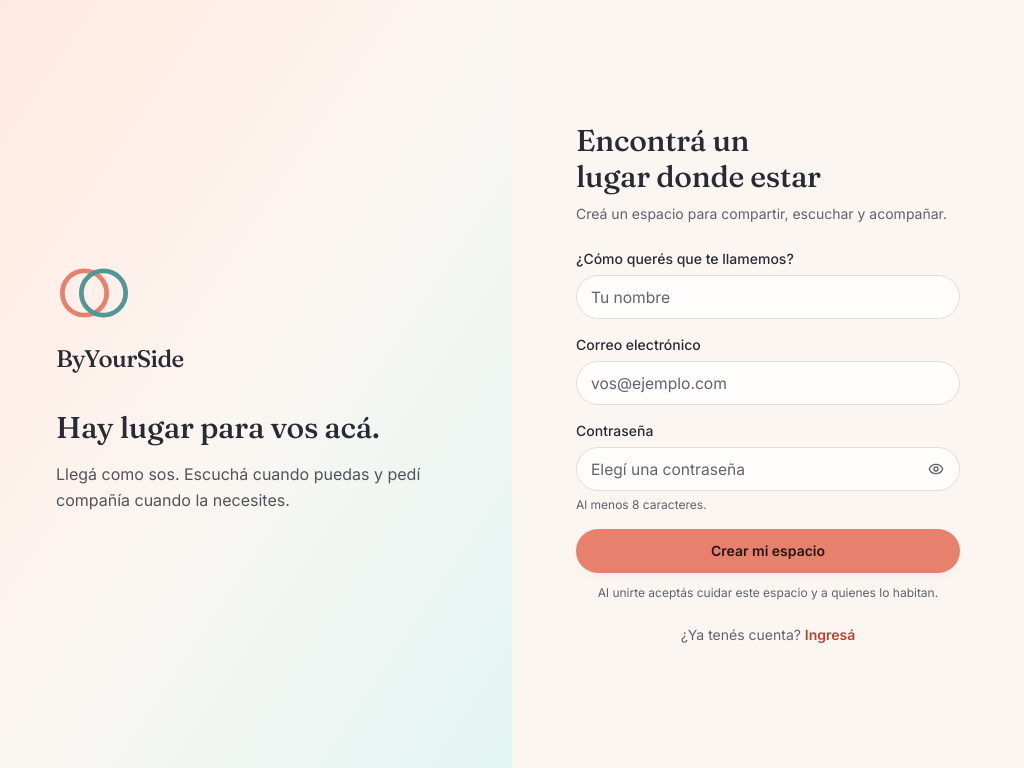
Test: RegisterPage › shows inline validation and does not submit
The image size is (1024, 768).
Type "no-es-correo" into the field labelled "Correo electrónico". click: (768, 383)
box: 576,361 -> 960,405
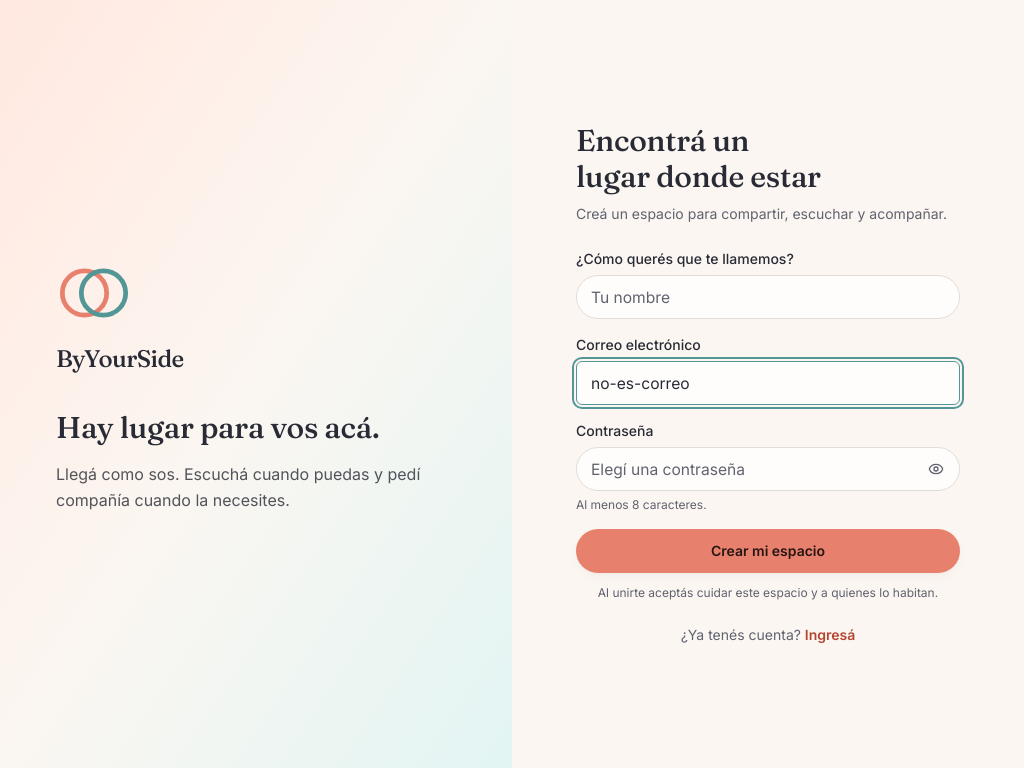
Type "corta" into the password field labelled "Contraseña". click: (768, 469)
box: 576,447 -> 960,491
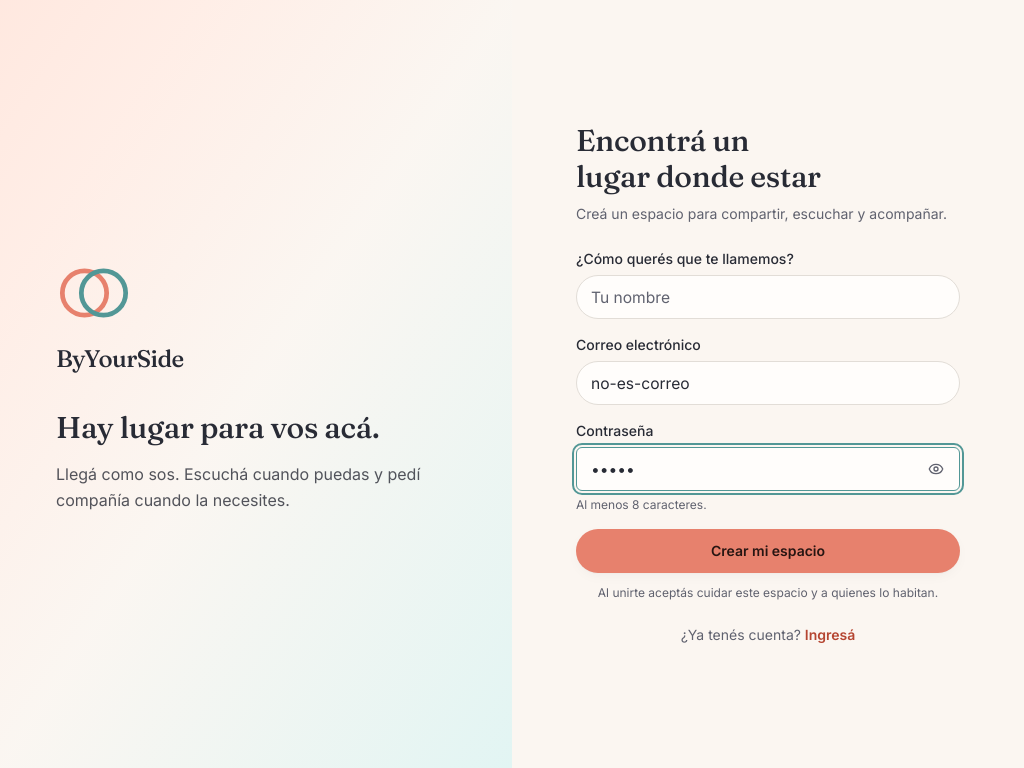
Click the button "Crear mi espacio". click: click(768, 551)
box: 576,529 -> 960,573
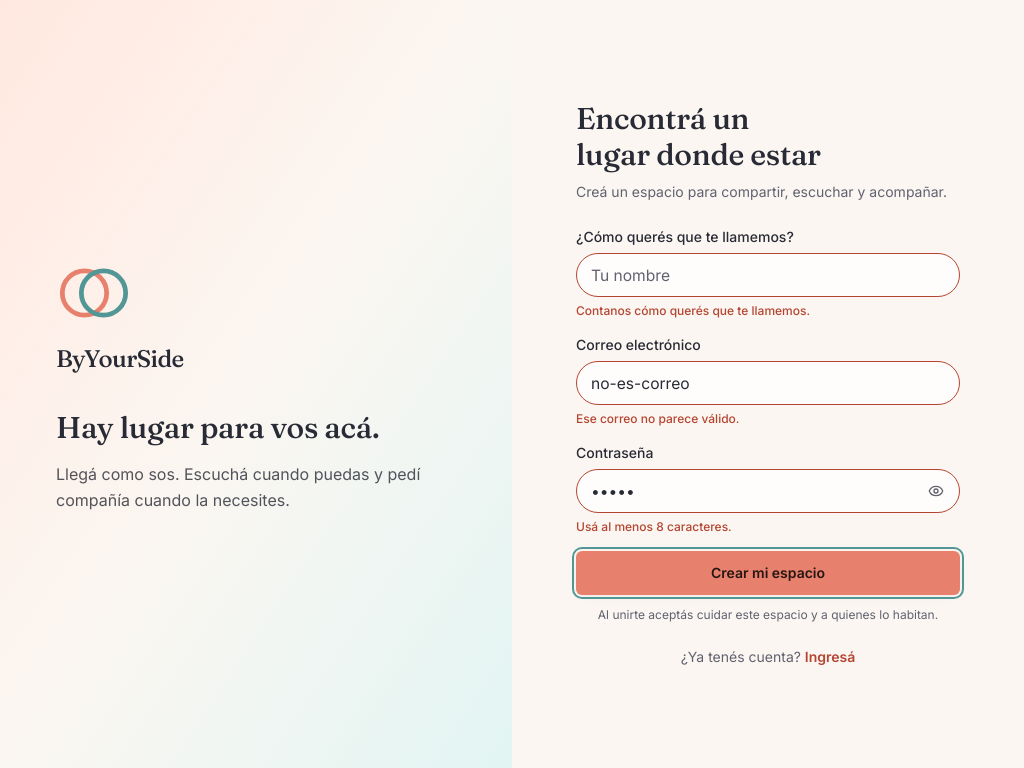
Expected: the text "Contanos cómo querés que te llamemos." is shown, 576,303 -> 810,318
Expected: the text "Ese correo no parece válido." is shown, 576,411 -> 740,426
Expected: the text "Usá al menos 8 caracteres." is shown, 576,519 -> 732,534
